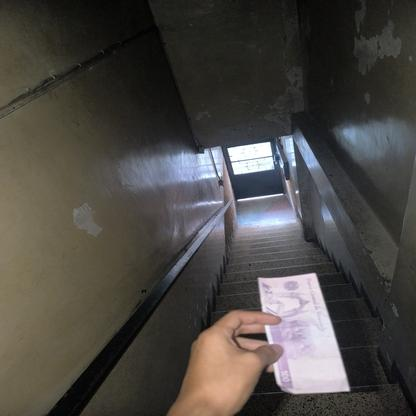vef_back: (256, 271, 350, 394)
